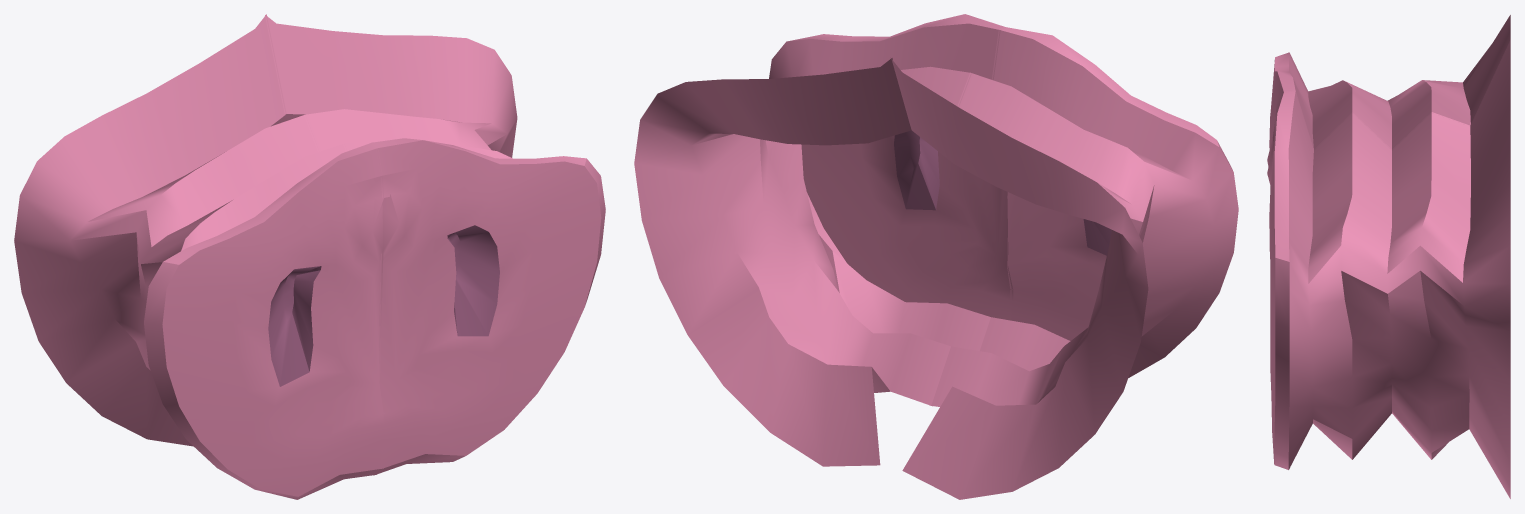
The model's file is Pignose.fbx.
3 views of the same model, side by side, from view 1: azimuth 30°, elevation 25°; view 2: azimuth 150°, elevation 25°; view 3: azimuth 270°, elevation 25° (orthographic). The views are drawn at different scales.
Parts seen in each view (by area): view 1: Cylinder; view 2: Cylinder; view 3: Cylinder.
Part boxes in pixels (x1,y1,x2,y2): Cylinder: (14, 14, 605, 499); Cylinder: (634, 14, 1238, 499); Cylinder: (1267, 15, 1510, 498).
Size of the model in its own units: 74.67 by 59.08 by 30.86.
